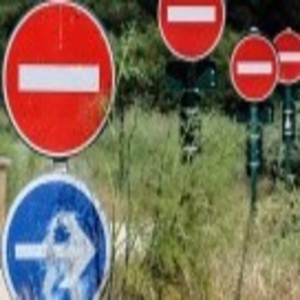trun_right: (2, 174, 108, 300)
